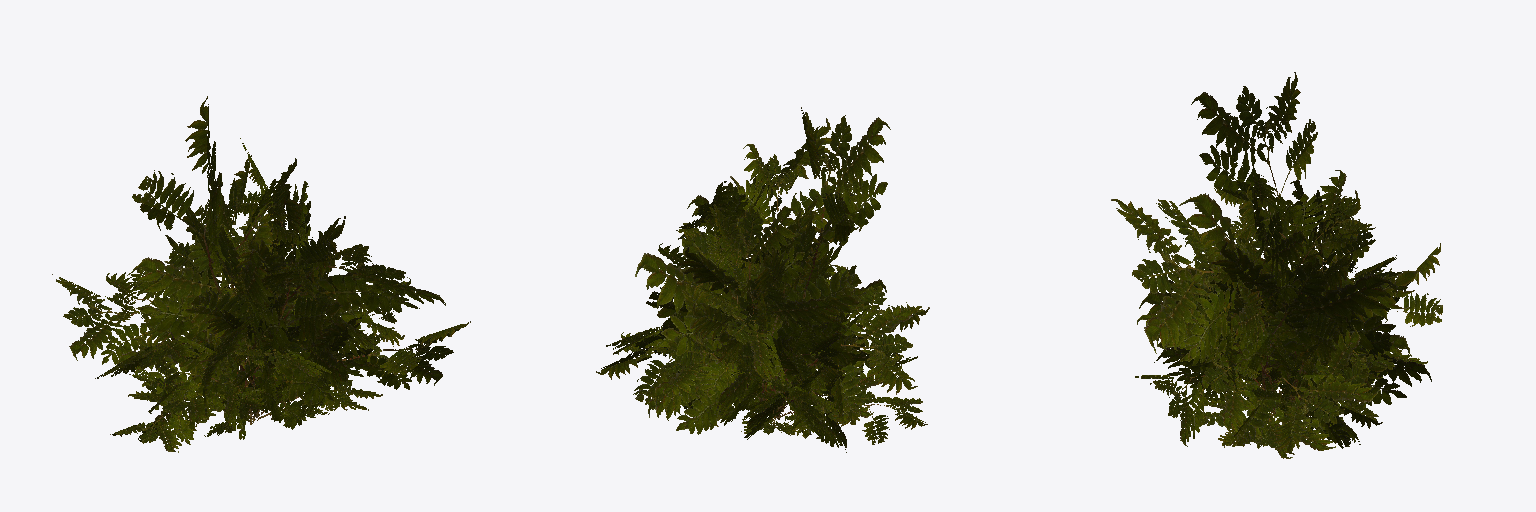
3 renders of one model, left to right at view 1: azimuth 30°, elevation 25°; view 2: azimuth 150°, elevation 25°; view 3: azimuth 270°, elevation 25°, orthographic.
Parts seen in each view (by area): view 1: Bush01_LOD2_Mesh.006_Bush01_LOD2_Mesh.001; view 2: Bush01_LOD2_Mesh.006_Bush01_LOD2_Mesh.001; view 3: Bush01_LOD2_Mesh.006_Bush01_LOD2_Mesh.001.
Part boxes in pixels (bbox=[...]): Bush01_LOD2_Mesh.006_Bush01_LOD2_Mesh.001: bbox=[52, 96, 470, 452]; Bush01_LOD2_Mesh.006_Bush01_LOD2_Mesh.001: bbox=[596, 107, 929, 452]; Bush01_LOD2_Mesh.006_Bush01_LOD2_Mesh.001: bbox=[1111, 72, 1442, 458].
Size of the model in its own units: 5.55 by 5.69 by 5.29.
1 materials, 1 textured.